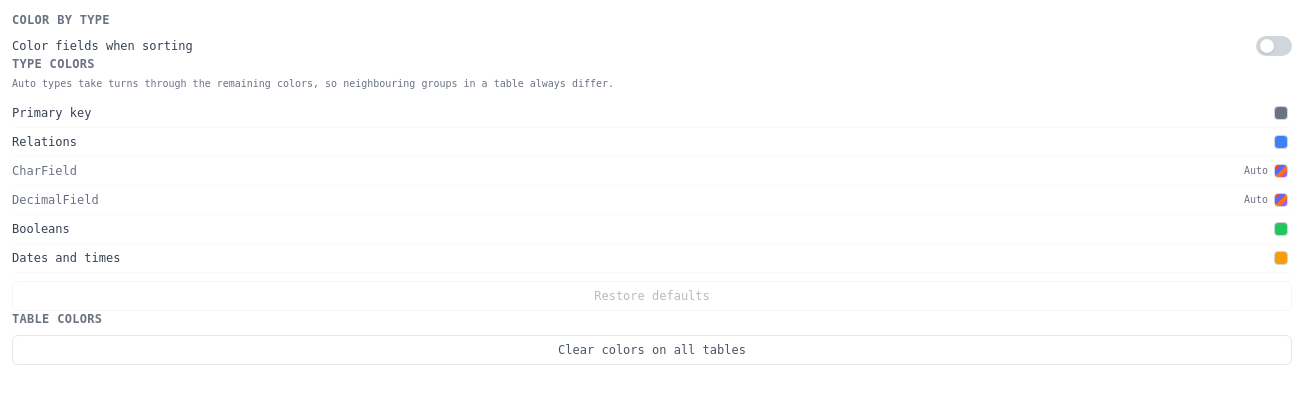
Scenario: TypeColorSettings › Clear colors on all tables › says 1 table, not 1 tables
Click the button "Clear colors on all tables". click: (652,350)
box: [12,335,1292,365]
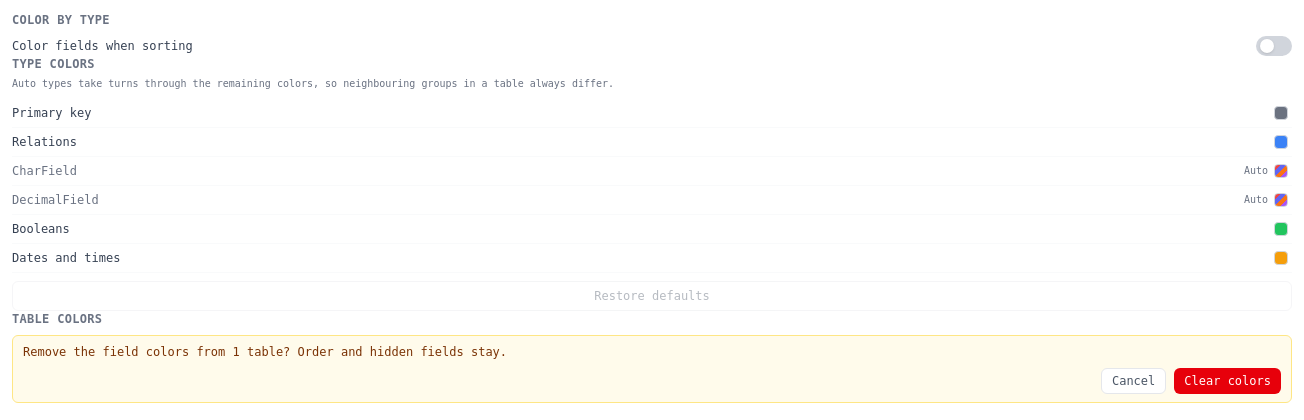
Now the text "Remove the field colors from 1 table? Order and hidden fields stay." is shown, box [23,345,507,359]
